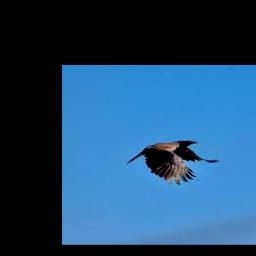Crow: (127, 140, 220, 184)
